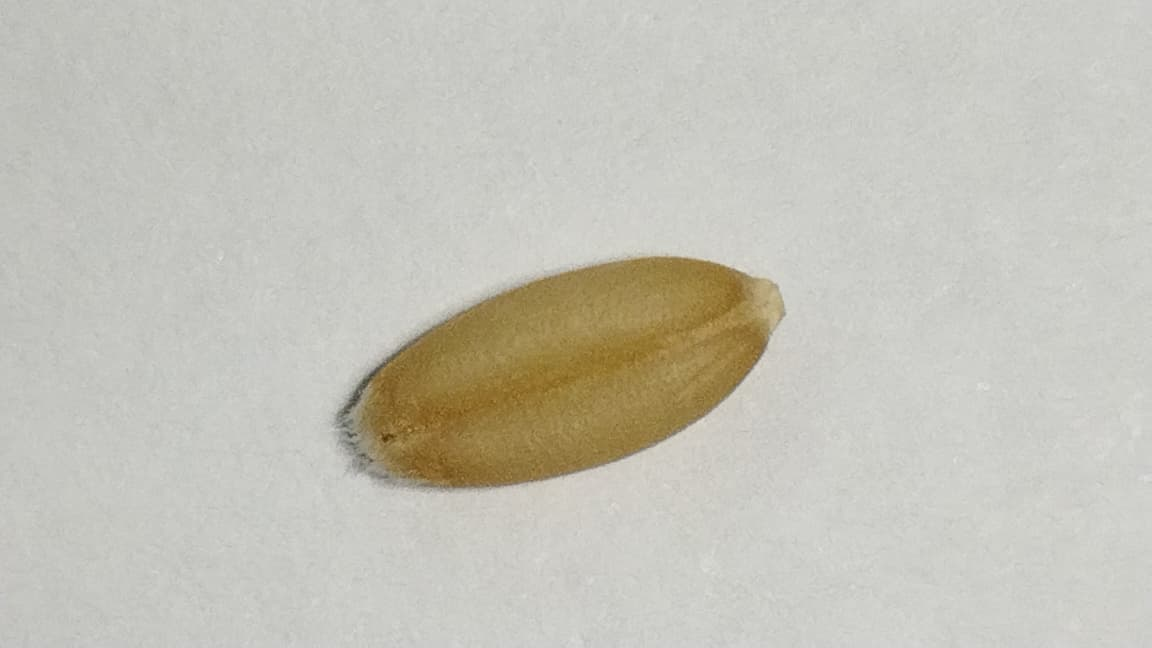healthy: (353, 257, 783, 486)
